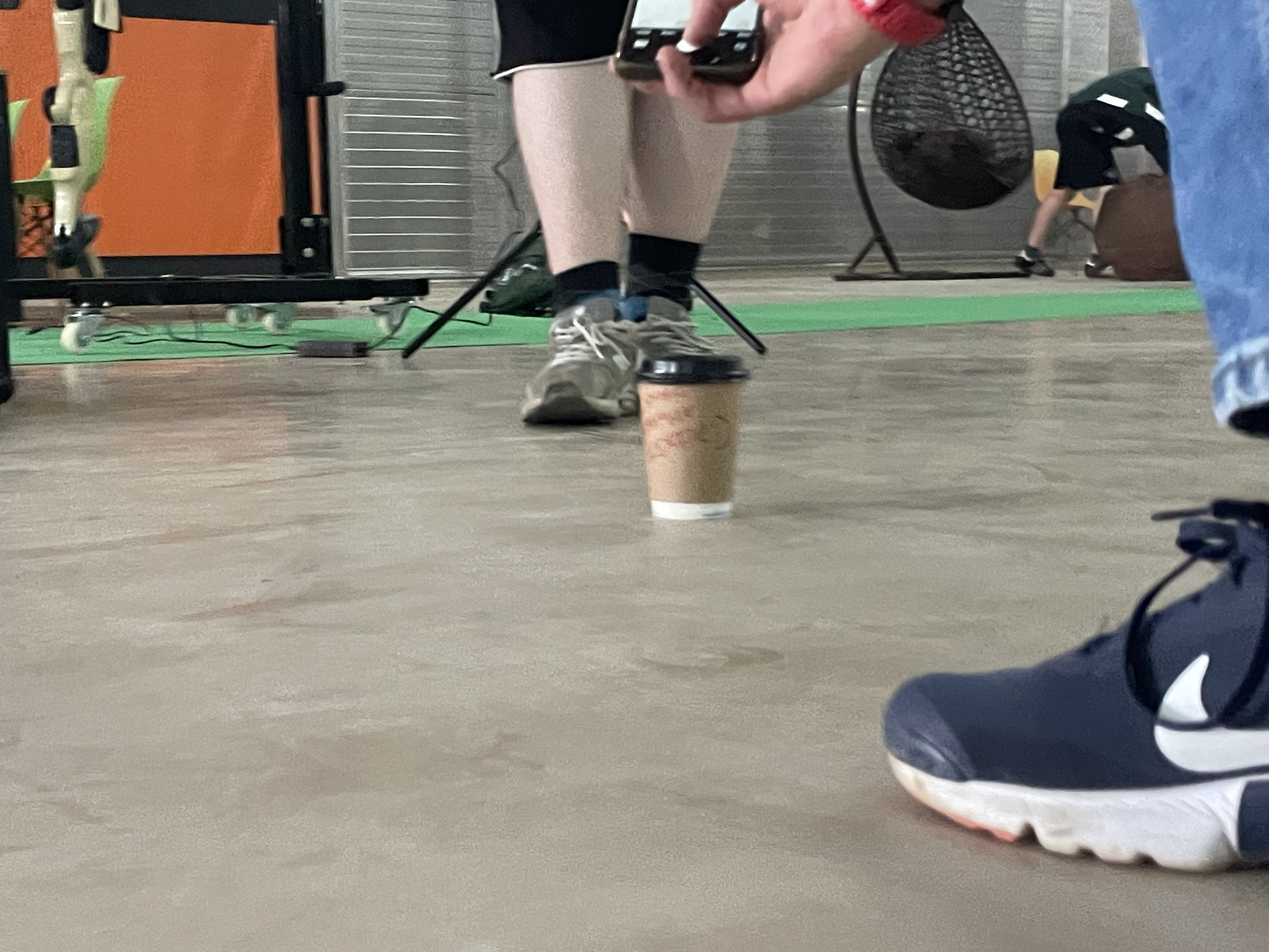cup: (638, 355, 749, 521)
